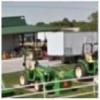tractors: (18, 47, 59, 90), (72, 41, 99, 82)
